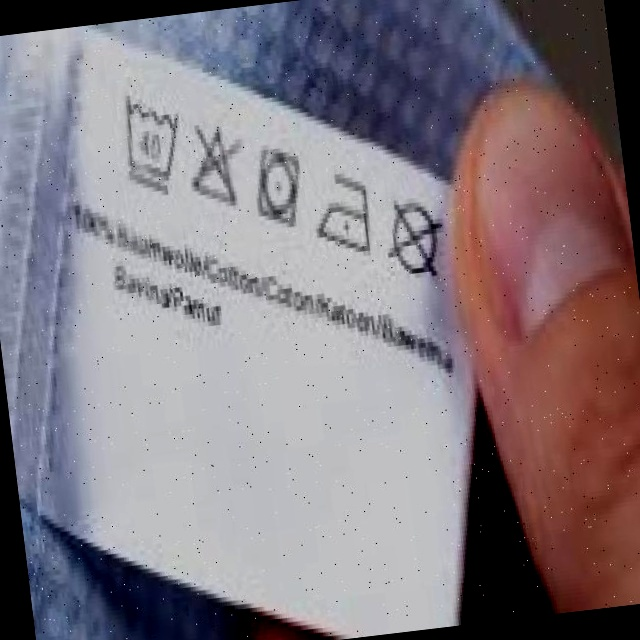40C: (107, 92, 189, 195)
DN_bleach: (180, 121, 251, 213)
DN_dry_clean: (378, 193, 452, 286)
iron_low: (309, 169, 380, 259)
tumble_dry_low: (247, 145, 310, 230)
